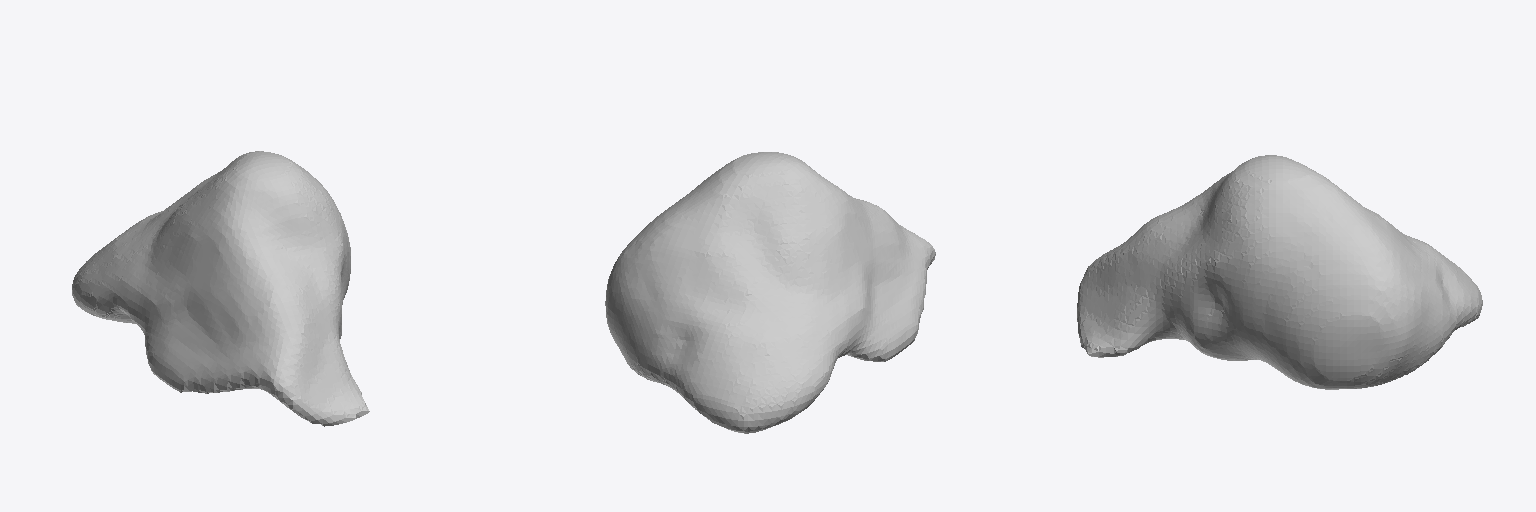
The model's file is parenchyma_scaled.obj.
3 views of the same model, side by side, from view 1: azimuth 30°, elevation 25°; view 2: azimuth 150°, elevation 25°; view 3: azimuth 270°, elevation 25° (orthographic).
Visible parts, largest first — view 1: parenchyma_10000_smooth; view 2: parenchyma_10000_smooth; view 3: parenchyma_10000_smooth.
Part boxes in pixels (bbox=[...]): parenchyma_10000_smooth: bbox=[72, 151, 369, 426]; parenchyma_10000_smooth: bbox=[605, 152, 935, 433]; parenchyma_10000_smooth: bbox=[1077, 155, 1482, 389].
Bounding box in the file's own units: 0.1063 × 0.0845 × 0.163.